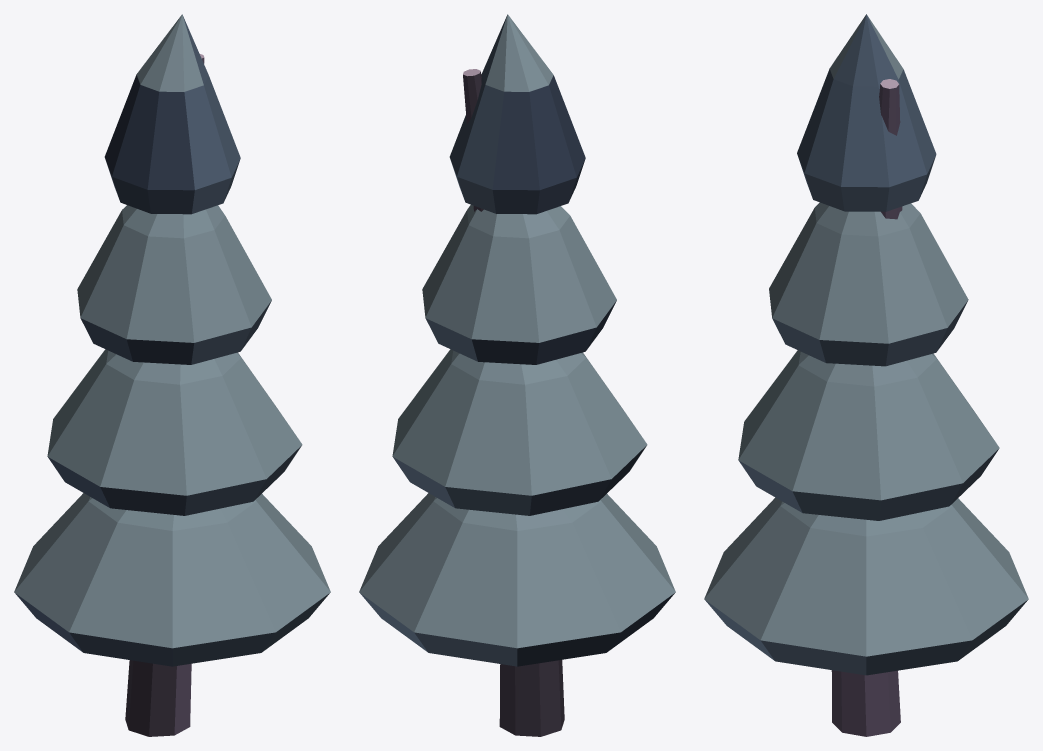
File: TW_TREE_TIERED_SLIM_B_LOD0.glb
3 renders of one model, left to right at view 1: azimuth 30°, elevation 25°; view 2: azimuth 150°, elevation 25°; view 3: azimuth 270°, elevation 25°, orthographic. The views are drawn at different scales.
Parts seen in each view (by area): view 1: TW_TREE_TIERED_SLIM_B_LOD0; view 2: TW_TREE_TIERED_SLIM_B_LOD0; view 3: TW_TREE_TIERED_SLIM_B_LOD0.
Boxes of the visible parts, x1=… form: TW_TREE_TIERED_SLIM_B_LOD0: x1=14, y1=14, x2=330, y2=736; TW_TREE_TIERED_SLIM_B_LOD0: x1=359, y1=14, x2=675, y2=736; TW_TREE_TIERED_SLIM_B_LOD0: x1=704, y1=14, x2=1028, y2=736.
Bounding box in the file's own units: 1.65 × 4.1 × 1.67.
Materials: 1 (1 with a texture image).
